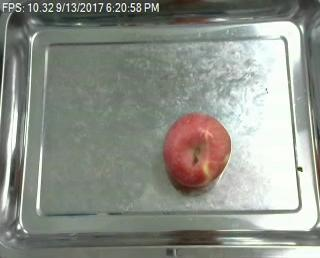apple: (162, 111, 231, 188)
